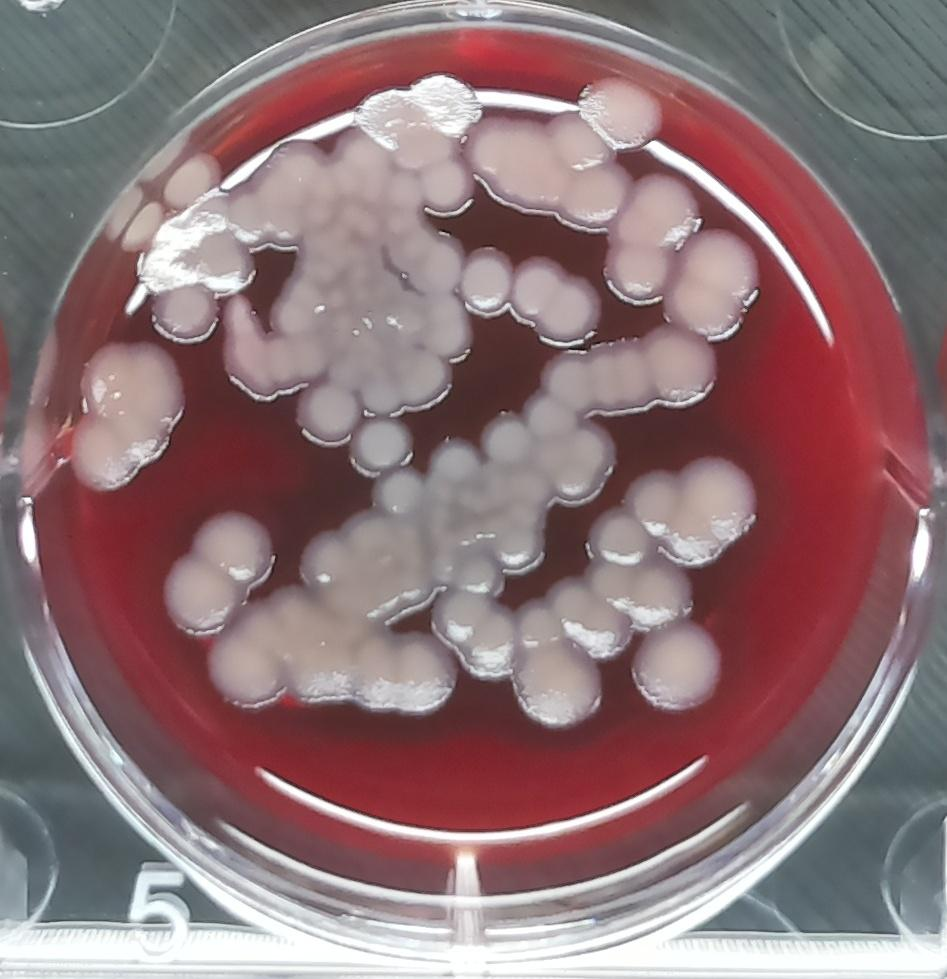bcereus: (205, 588, 458, 722), (458, 103, 634, 232), (59, 330, 192, 497), (162, 501, 276, 645), (624, 457, 761, 575), (604, 162, 702, 315), (667, 222, 761, 337), (503, 249, 604, 351), (508, 635, 608, 738), (627, 617, 732, 715), (576, 64, 667, 162), (647, 324, 728, 412), (451, 237, 521, 321), (341, 408, 417, 483)
